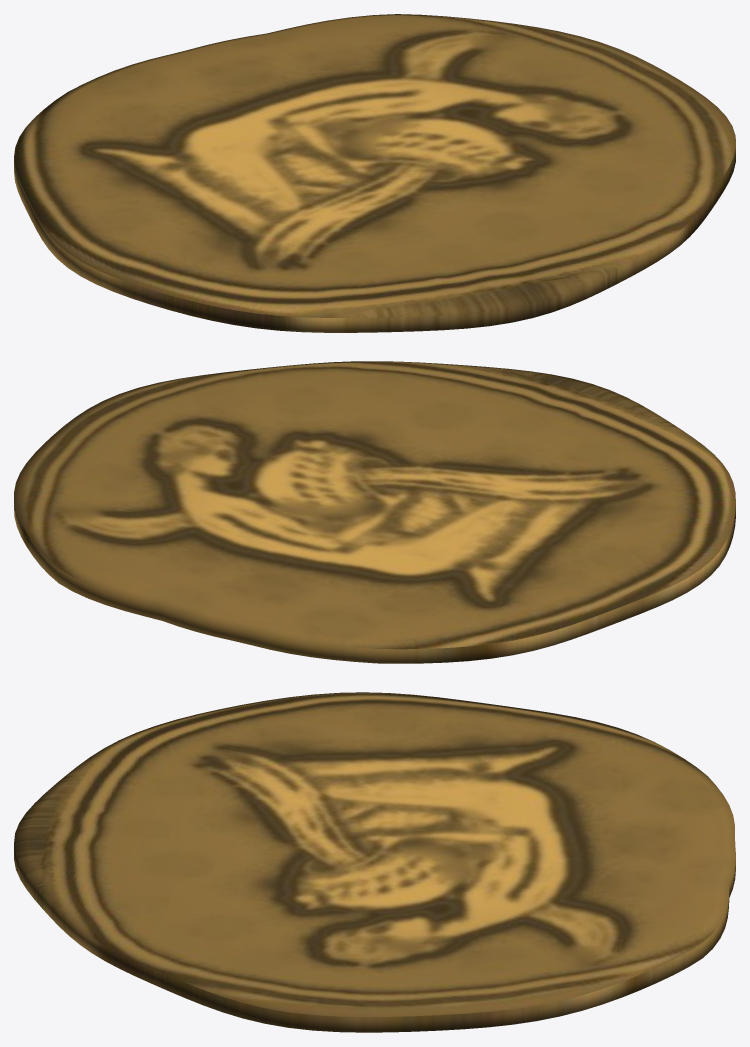
The model's file is zodiac_11.glb.
3 renders of one model, top to bottom at view 1: azimuth 30°, elevation 25°; view 2: azimuth 150°, elevation 25°; view 3: azimuth 270°, elevation 25°, orthographic. The views are drawn at different scales.
Parts seen in each view (by area): view 1: zodiac_11; view 2: zodiac_11; view 3: zodiac_11.
Boxes of the visible parts, <box> form: zodiac_11: <box>14,14,735,332</box>; zodiac_11: <box>14,361,735,663</box>; zodiac_11: <box>14,692,735,1032</box>.
Size of the model in its own units: 0.9799 by 0.0397 by 0.9205.
Materials: 1 (1 with a texture image).
